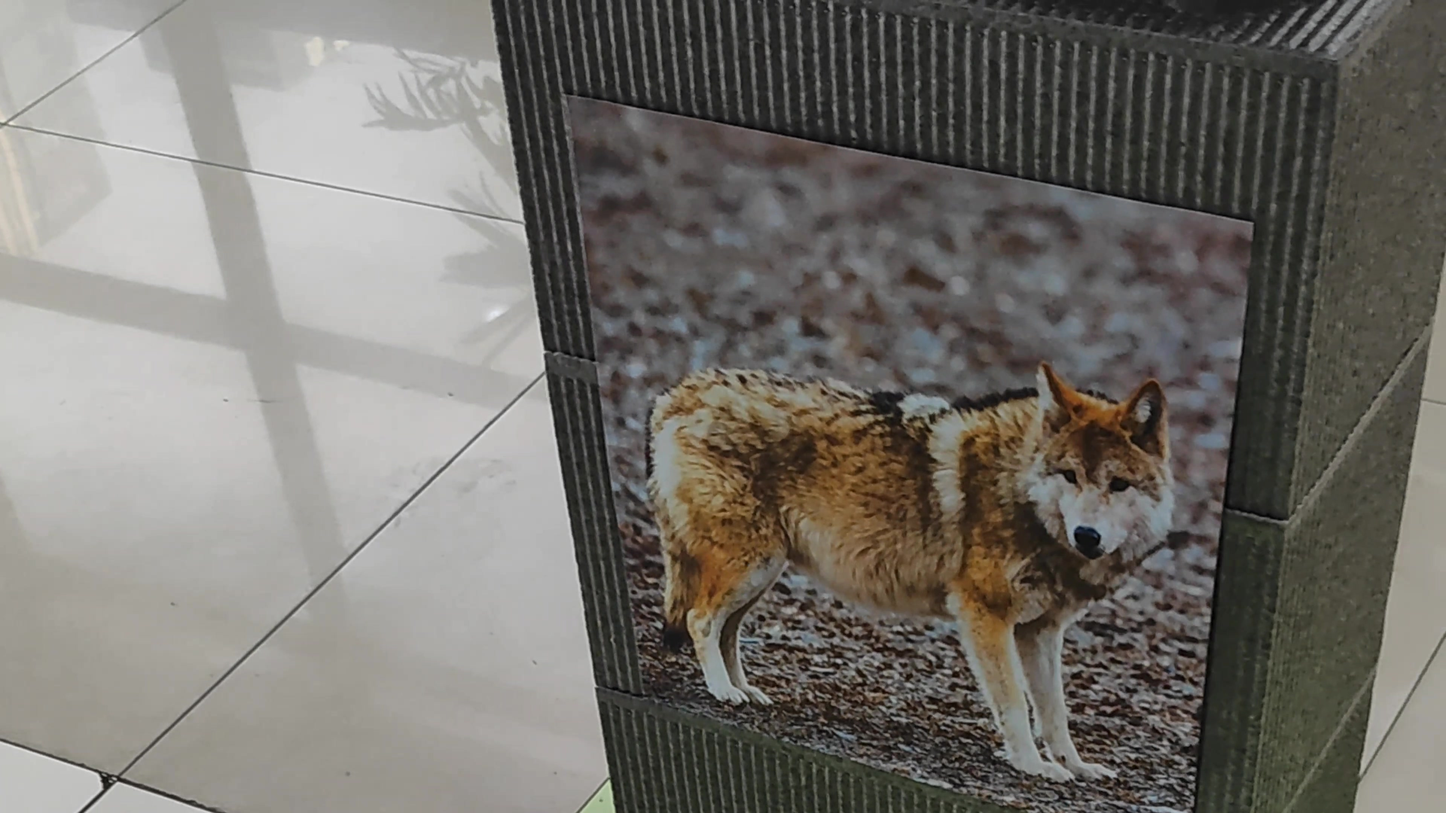wolf: (598, 290, 1175, 766)
